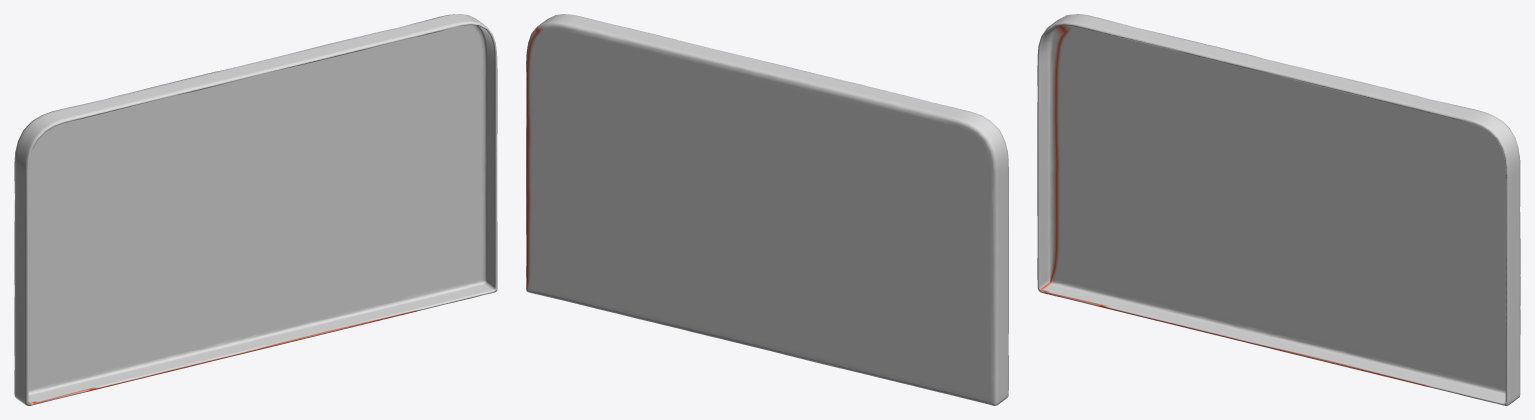
File: w_wood_top_01.fbx
The picture shows the model from 3 angles, left to right: view 1: azimuth 30°, elevation 25°; view 2: azimuth 150°, elevation 25°; view 3: azimuth 330°, elevation 25°; orthographic projection.
Parts seen in each view (by area): view 1: wood_top_01; view 2: wood_top_01; view 3: wood_top_01.
Part boxes in pixels (box(x1,y1,x2,y2)): wood_top_01: box(14, 14, 497, 405); wood_top_01: box(526, 14, 1008, 405); wood_top_01: box(1037, 14, 1520, 405).
Bounding box in the file's own units: 4.27 × 2.4 × 0.2114.
